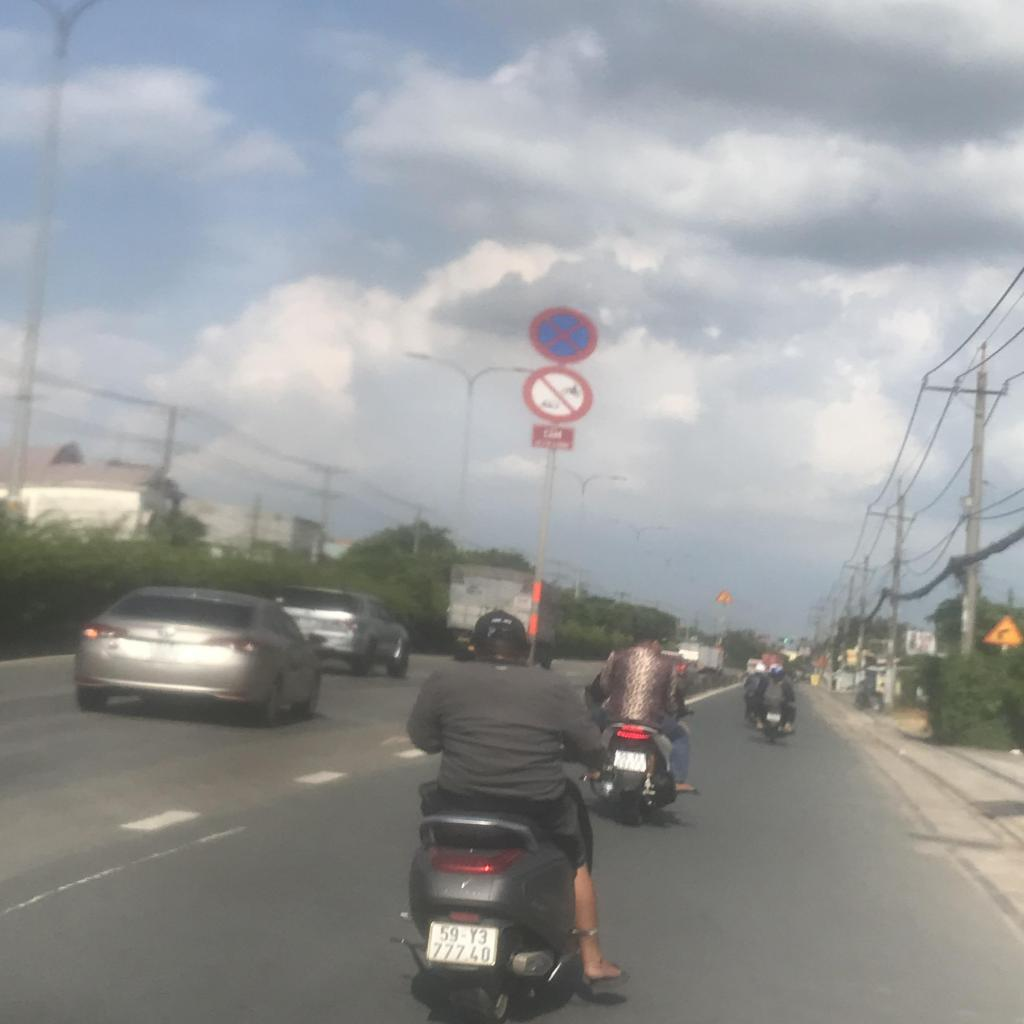cam_dung_xe_va_do_xe: (526, 307, 600, 363)
cam_xe_2_banh_va_xe_3_banh_co_dong_co: (525, 364, 594, 424)
cho_ngoat_nguy_hiem_ben_phai: (984, 615, 1023, 643)
